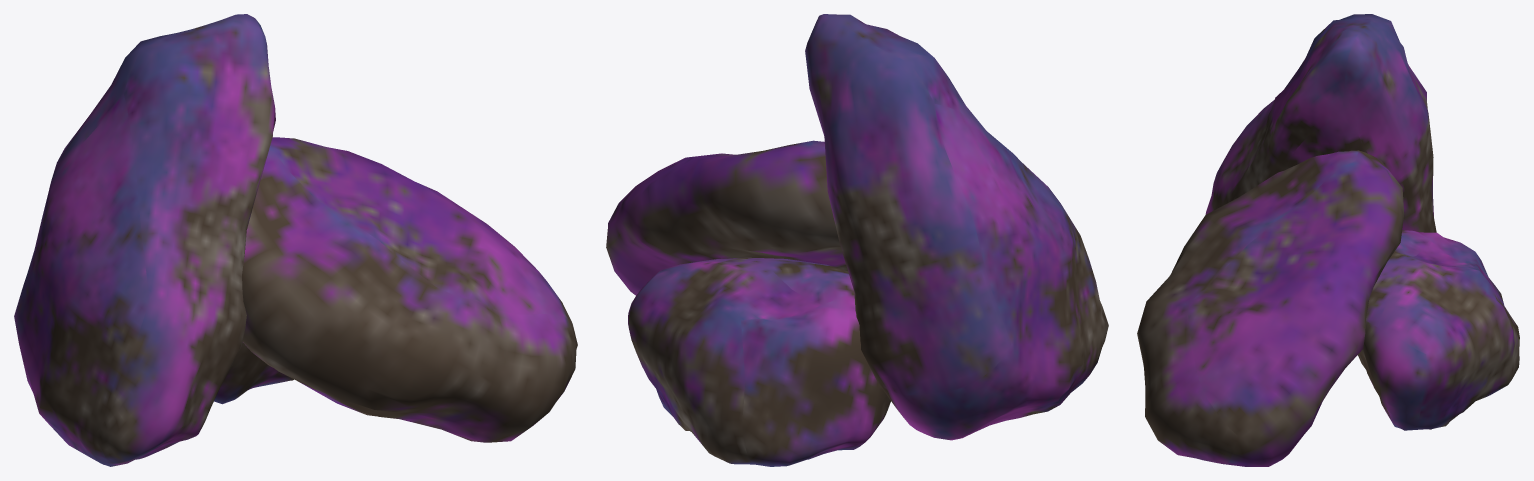
Rendered from Roca4.obj.
The picture shows the model from 3 angles, left to right: view 1: azimuth 30°, elevation 25°; view 2: azimuth 150°, elevation 25°; view 3: azimuth 270°, elevation 25°; orthographic projection. The views are drawn at different scales.
Visible parts, largest first — view 1: Cube.005_Cube.006; view 2: Cube.005_Cube.006; view 3: Cube.005_Cube.006.
Boxes of the visible parts, box(x1,y1,x2,y2) form: Cube.005_Cube.006: box(14, 14, 577, 466); Cube.005_Cube.006: box(606, 14, 1108, 466); Cube.005_Cube.006: box(1137, 14, 1519, 466).
Size of the model in its own units: 7.53 by 6.02 by 5.84.
Materials: 1 (1 with a texture image).
